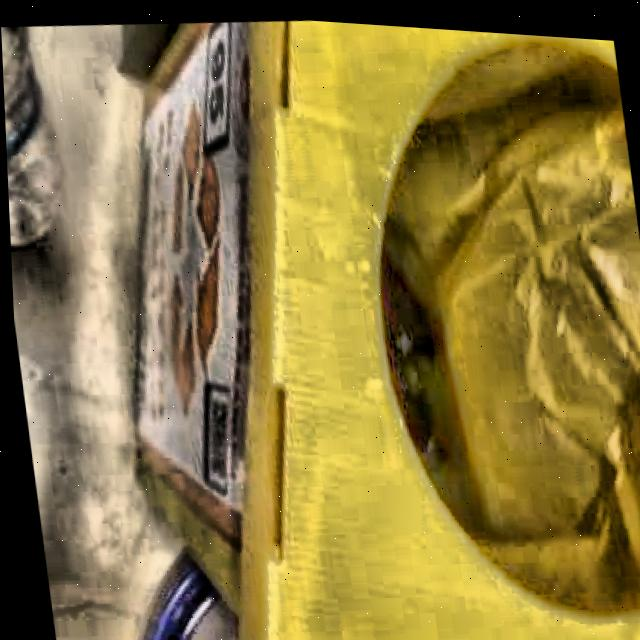plastic: (1, 26, 58, 240)
